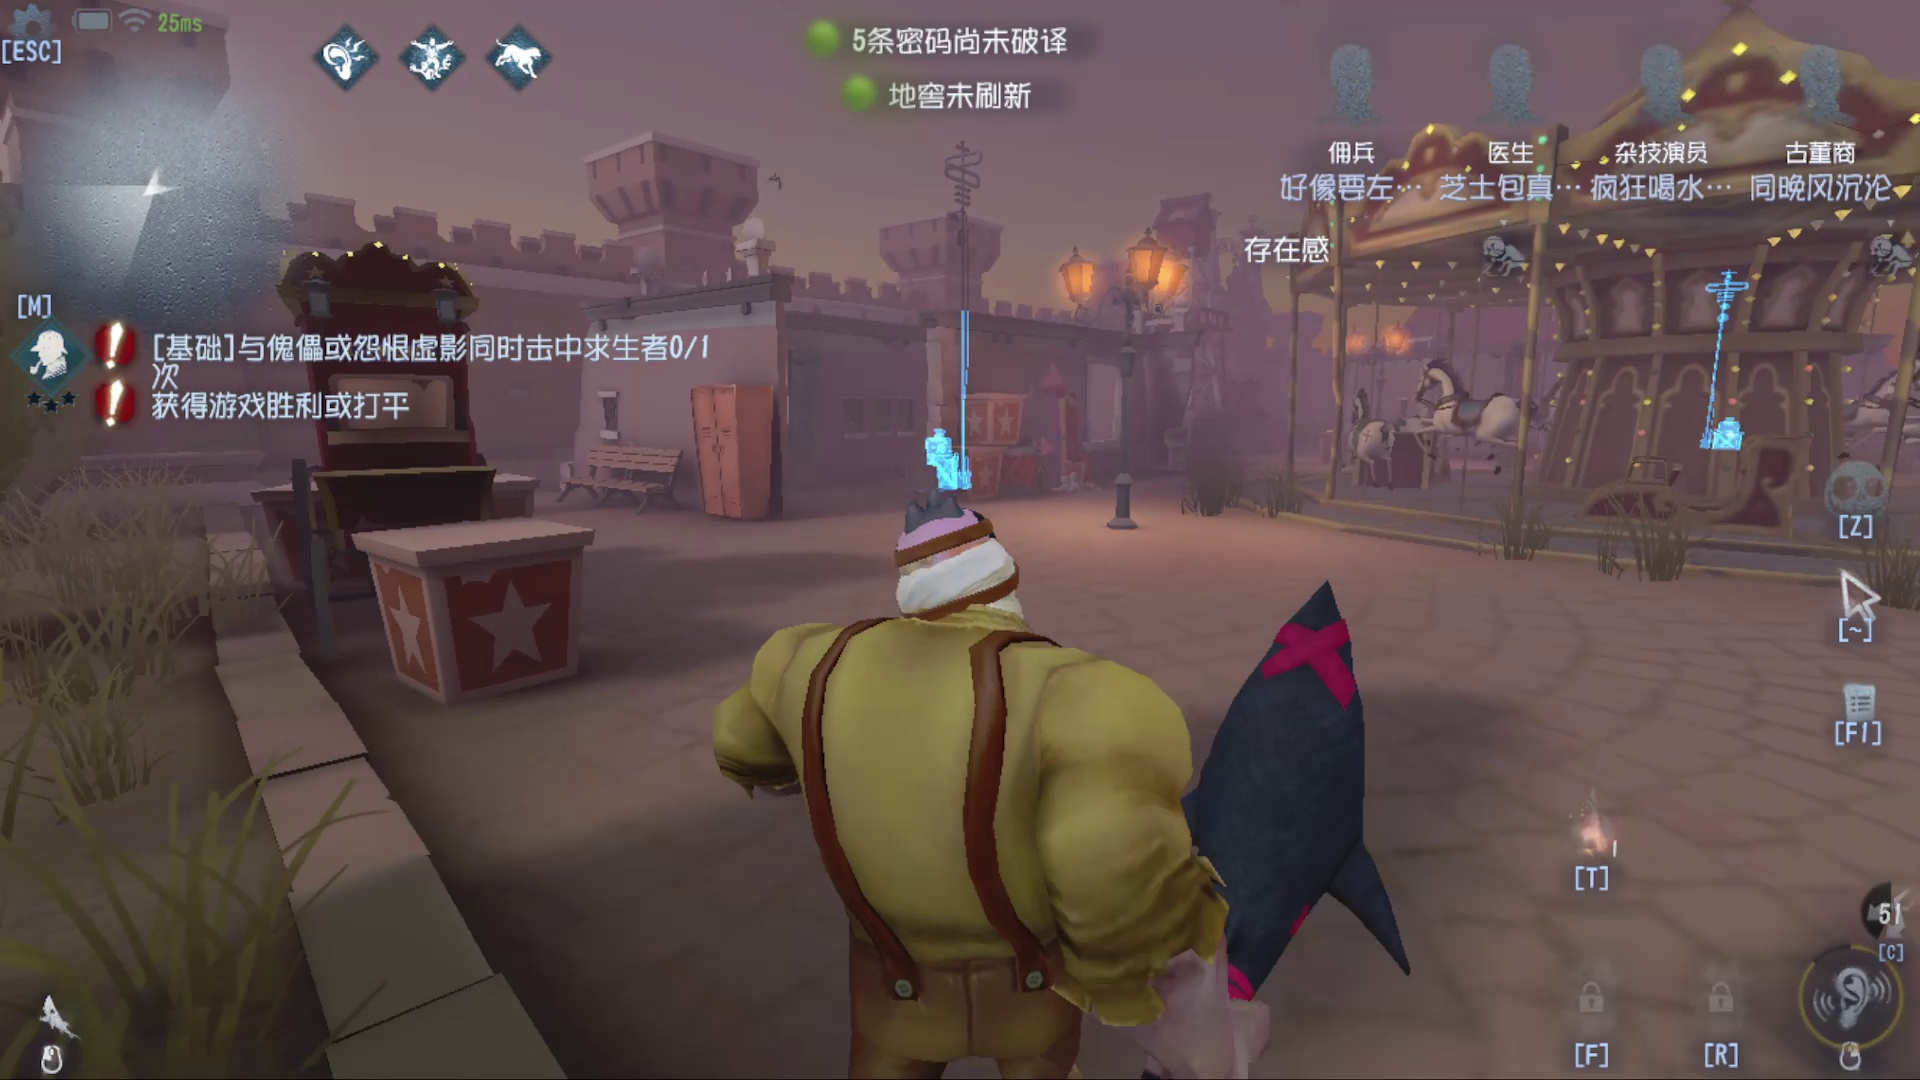密码机: (914, 131, 1000, 512), (1691, 251, 1751, 475)
狂欢之椅: (1025, 356, 1096, 502)
